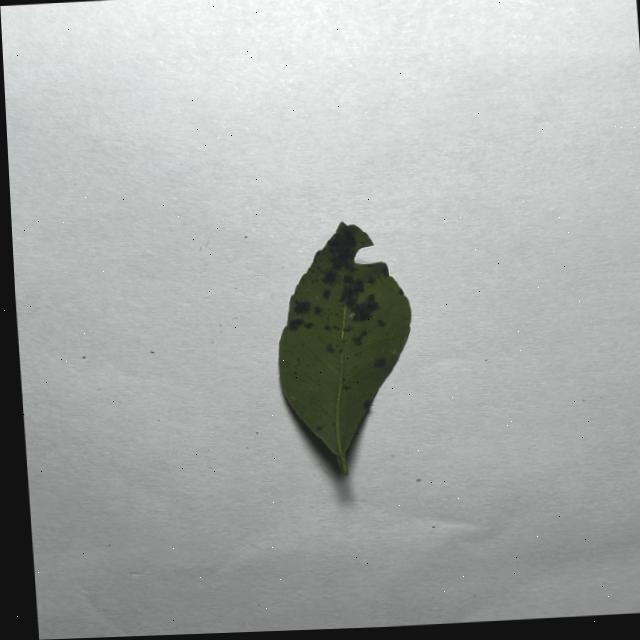sooty_mold: (278, 222, 410, 475)
